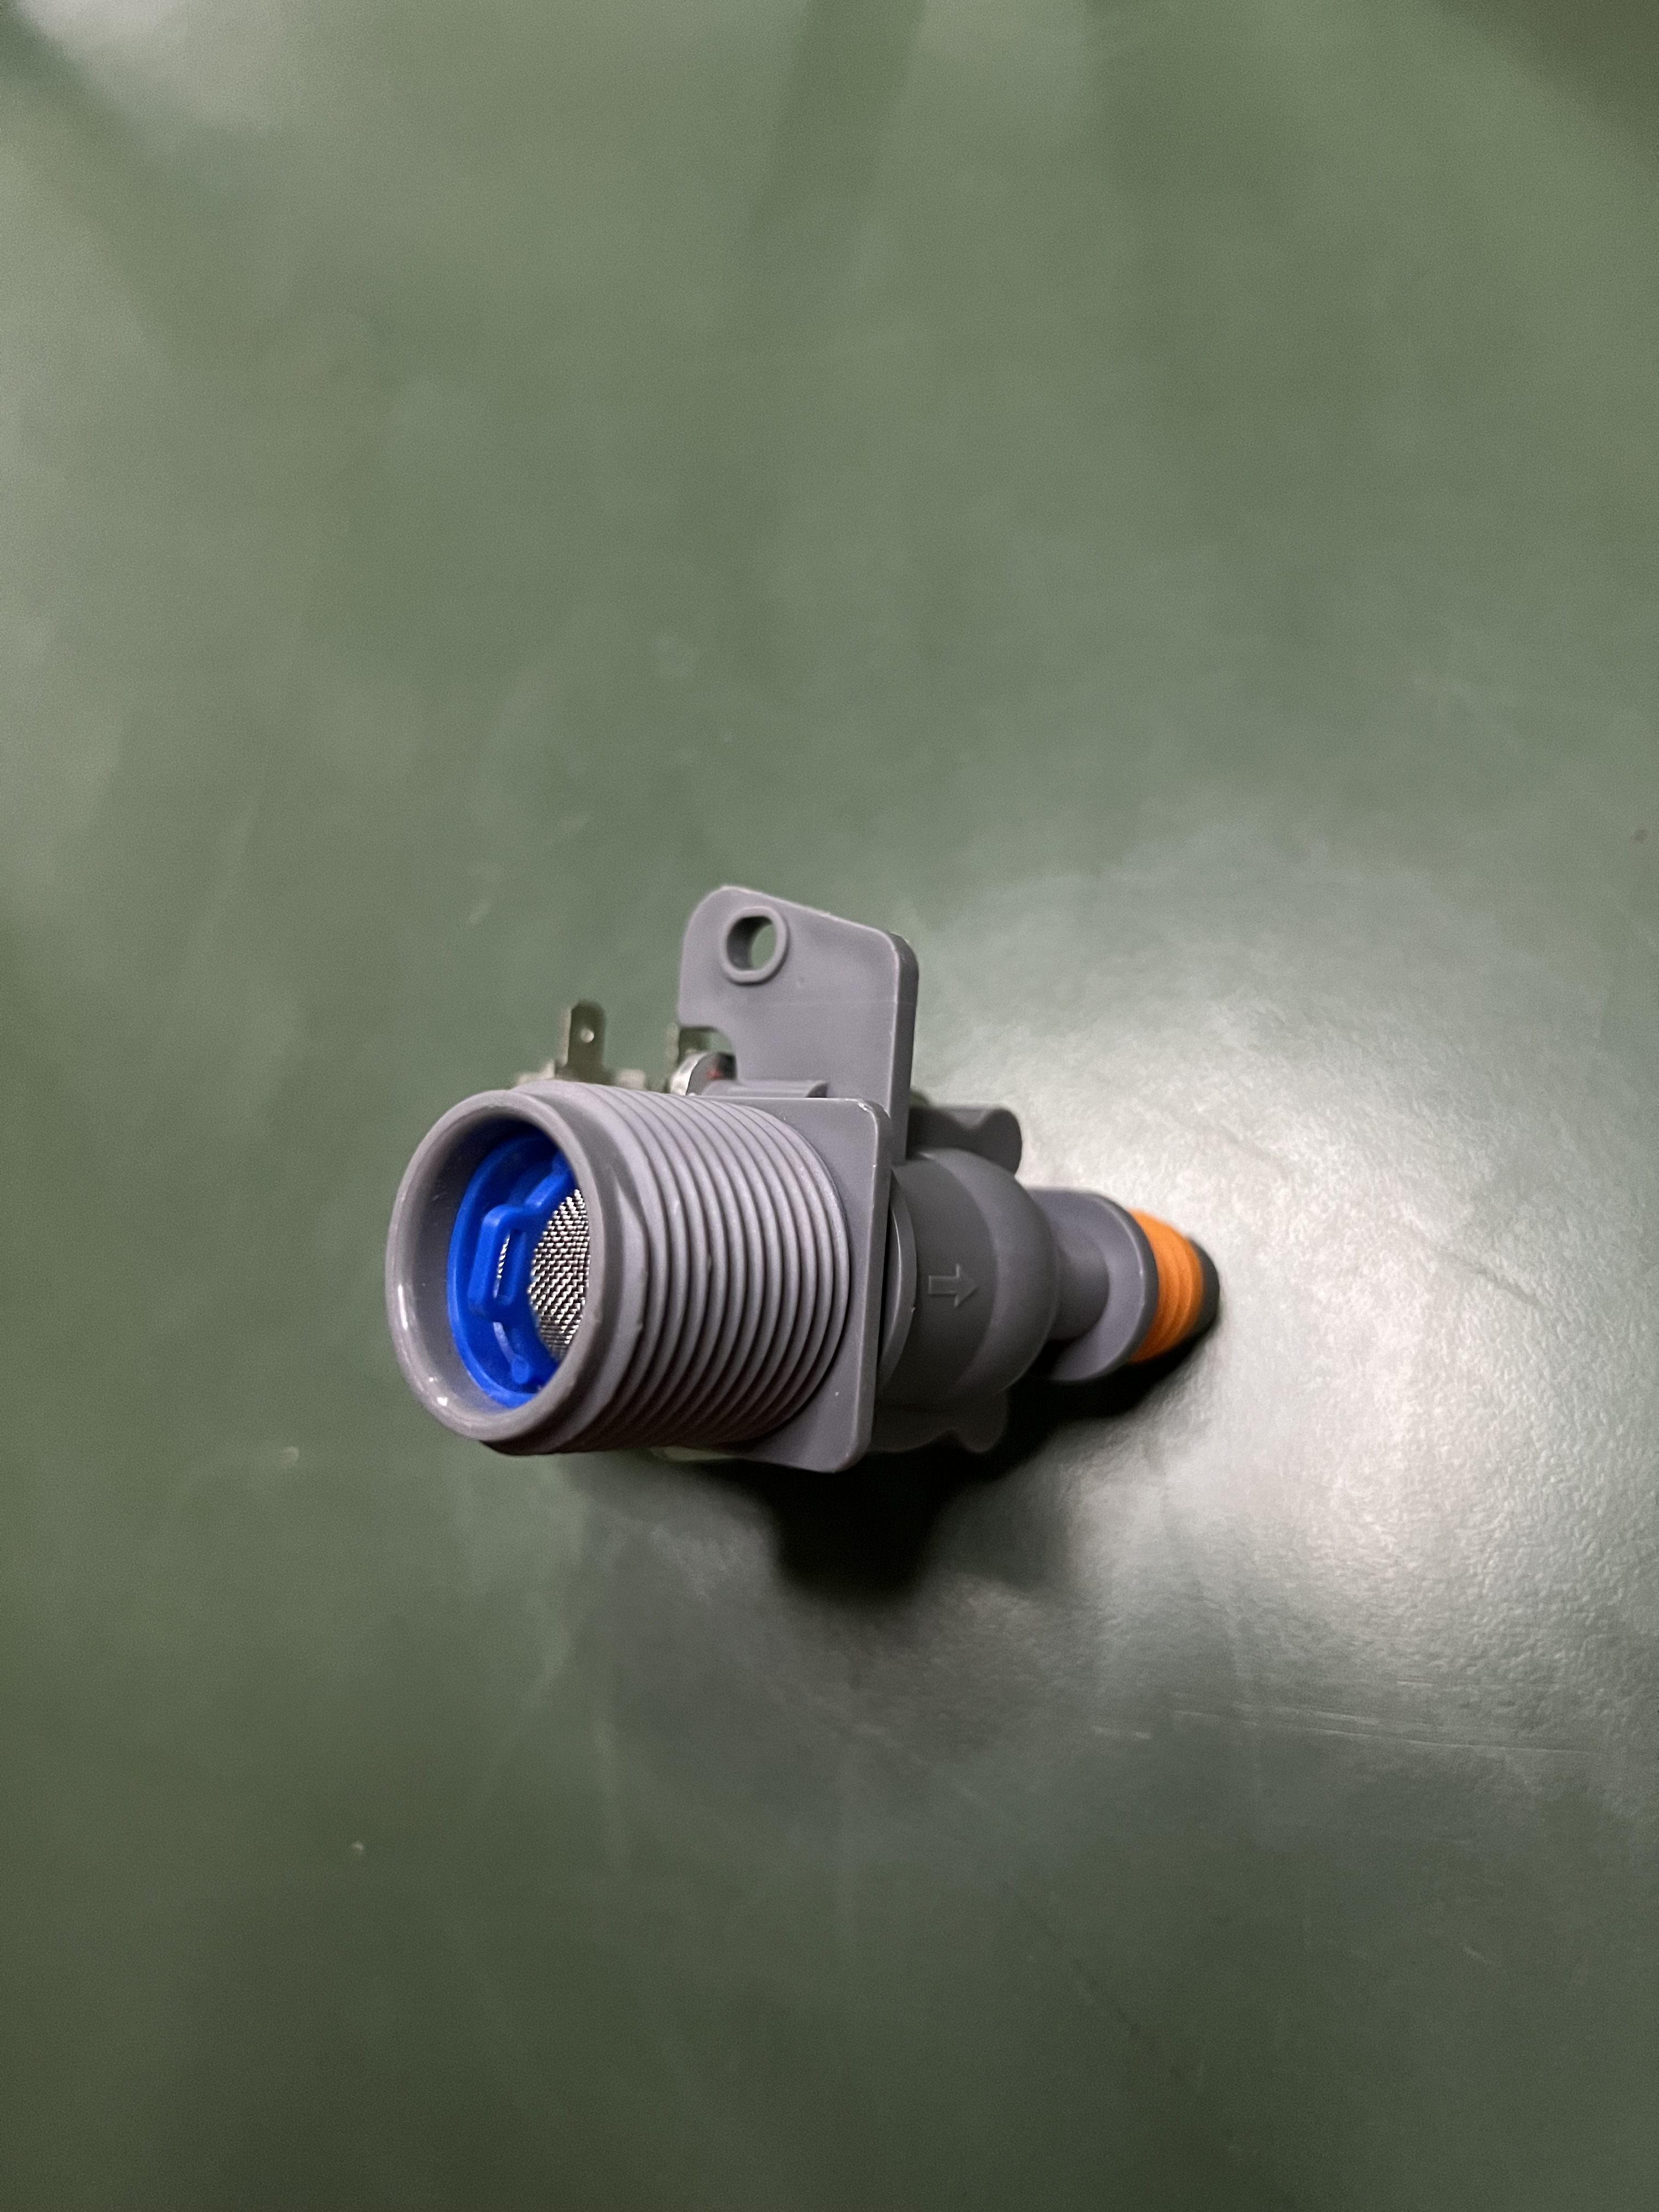inlet_valves: (389, 873, 1276, 1486)
